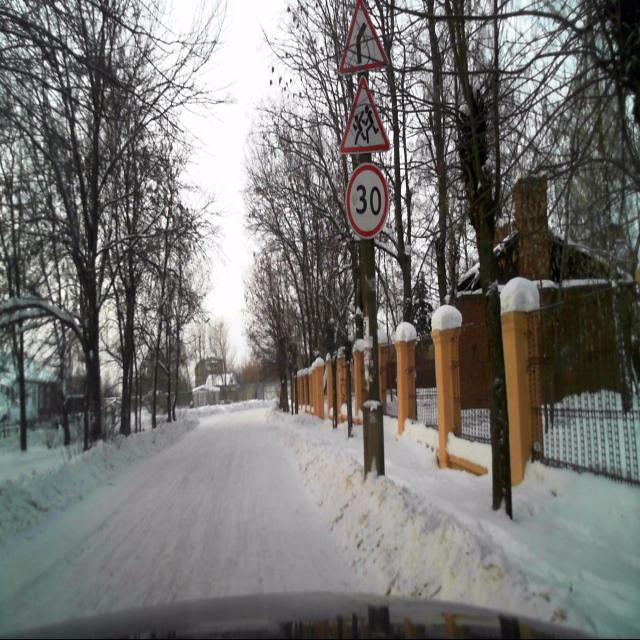road sign: (340, 75, 388, 155), (340, 1, 387, 73)
